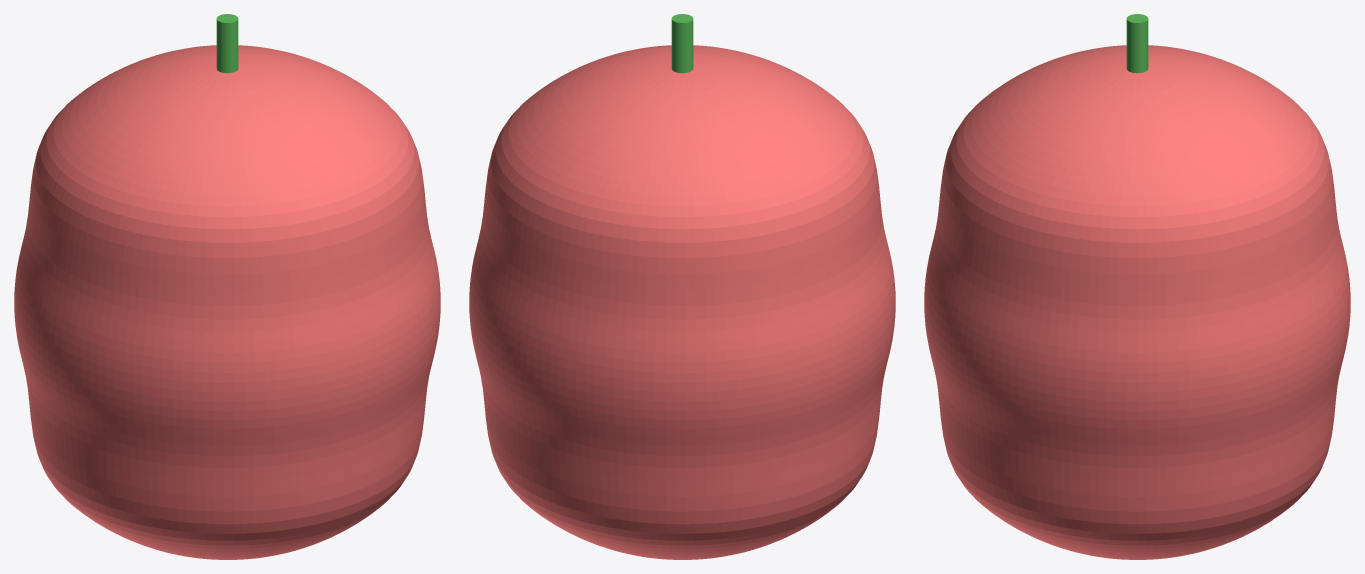
The picture shows the model from 3 angles, left to right: view 1: azimuth 30°, elevation 25°; view 2: azimuth 150°, elevation 25°; view 3: azimuth 270°, elevation 25°; orthographic projection.
Visible parts, largest first — view 1: Tomato; view 2: Tomato; view 3: Tomato.
Boxes of the visible parts, x1,y1,x2,y2 form: Tomato: (14, 14, 440, 559); Tomato: (469, 14, 895, 559); Tomato: (924, 14, 1350, 559).
Size of the model in its own units: 1.97 by 2.65 by 1.97.
